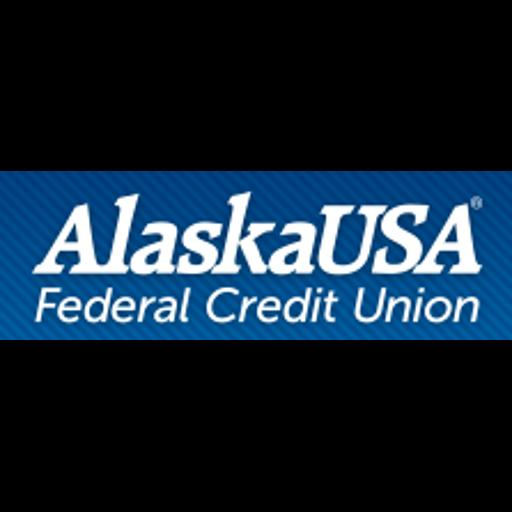Alaska USA Federal Credit Union: (0, 171, 512, 340)
